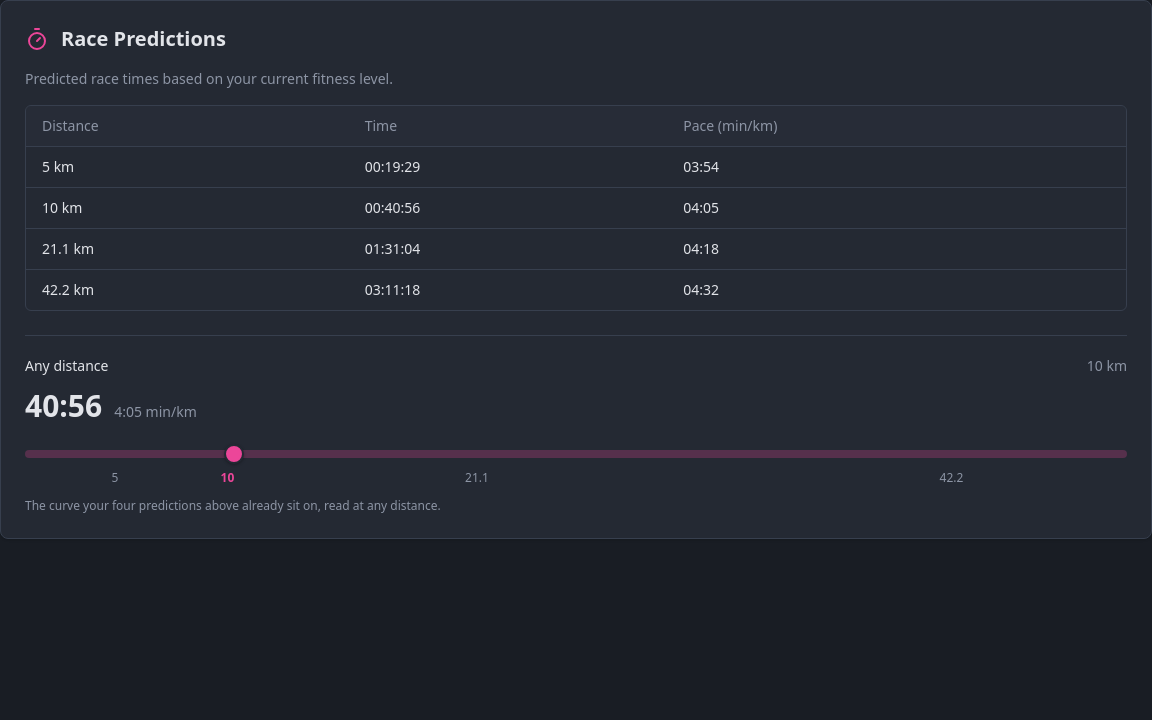
Test: the distance slider › lands exactly on a marquee distance dragged near
This screenshot has width=1152, height=720.
Set the slider labelled "Any distance" to "21.2" at (481, 454), box [25,450,1127,458]
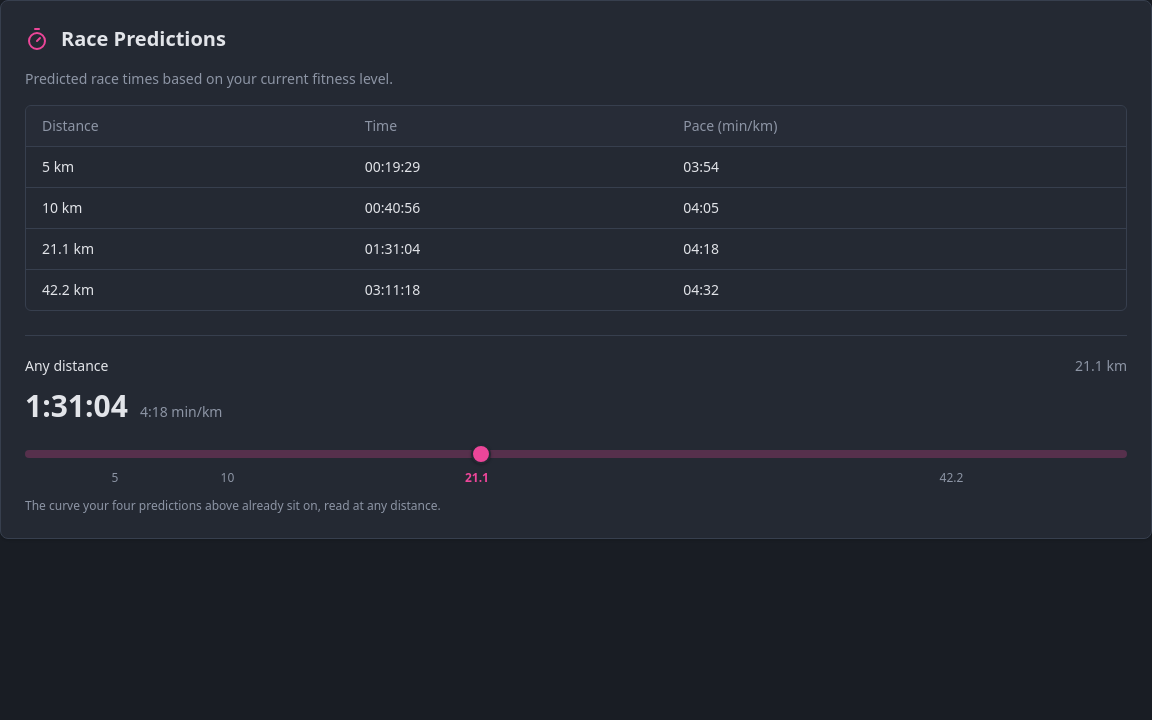
expect the text "21.1 km" is shown: met, box [1075,356,1127,376]
expect the text "1:31:04" is shown: met, box [25,388,128,424]
